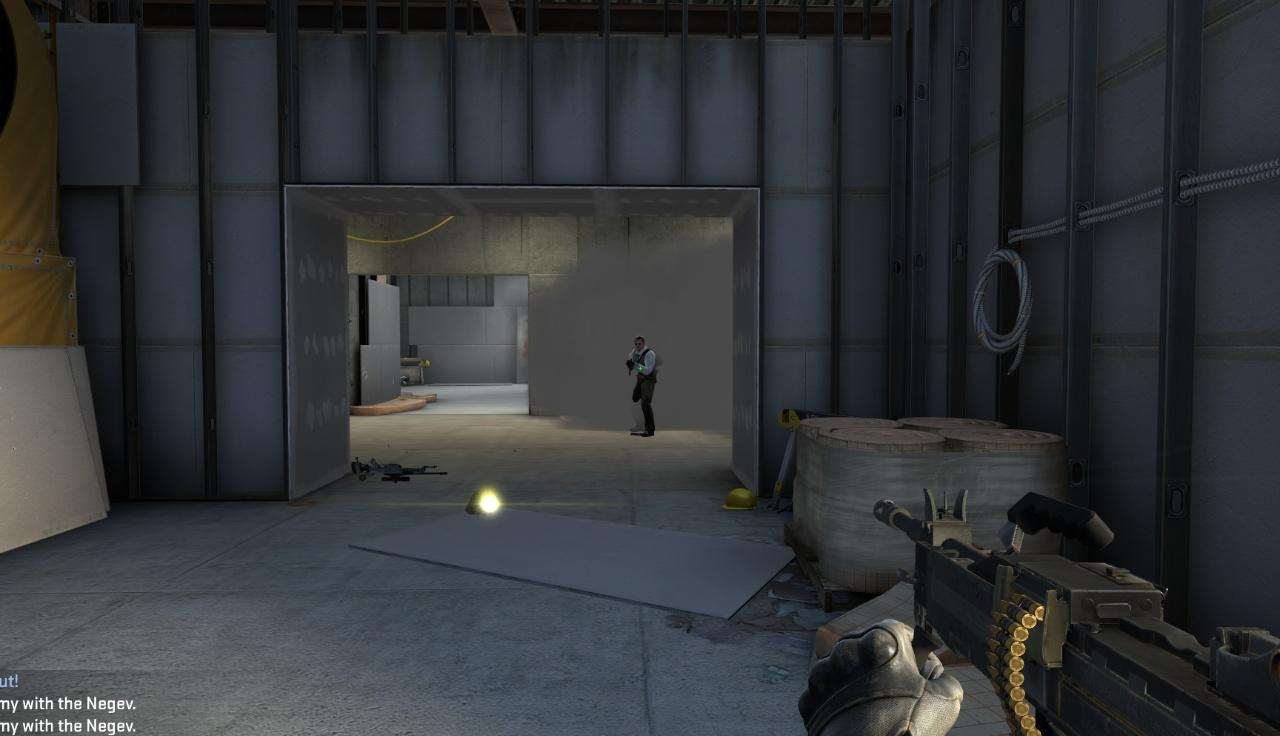rifle: (847, 478, 1280, 736)
tt: (627, 335, 657, 438)
tthead: (633, 336, 645, 351)
